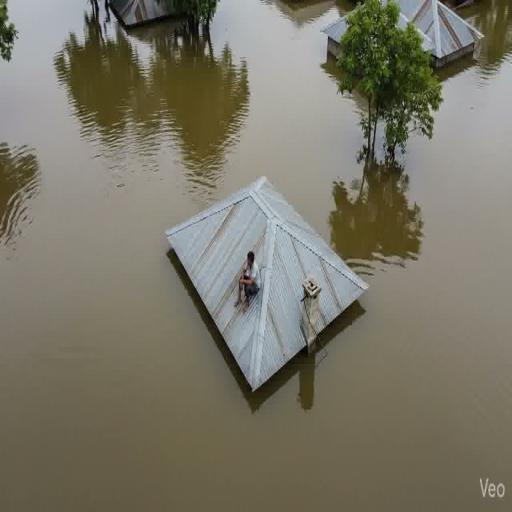human: (228, 240, 266, 313)
